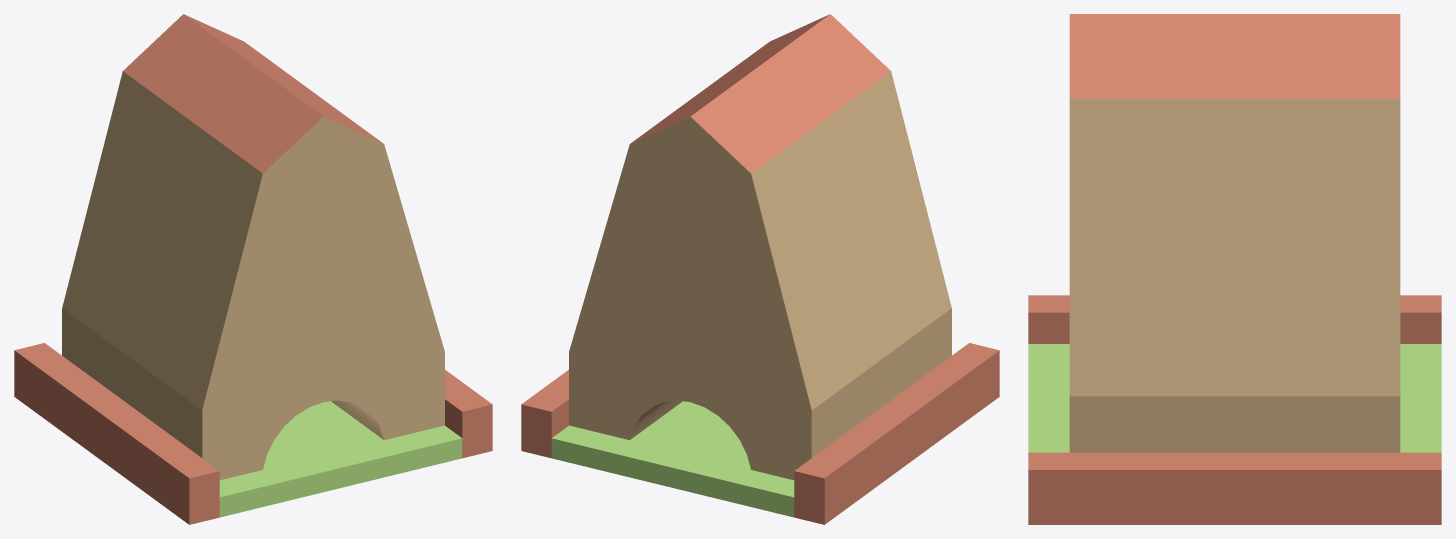
Rendered from Windmill_01.glb.
3 views of the same model, side by side, from view 1: azimuth 30°, elevation 25°; view 2: azimuth 150°, elevation 25°; view 3: azimuth 270°, elevation 25° (orthographic). The views are drawn at different scales.
Visible parts, largest first — view 1: Mesh1 Windmill Model; view 2: Mesh1 Windmill Model; view 3: Mesh1 Windmill Model.
Boxes of the visible parts, box(x1,y1,x2,y2) form: Mesh1 Windmill Model: box(14, 14, 492, 524); Mesh1 Windmill Model: box(521, 14, 999, 524); Mesh1 Windmill Model: box(1028, 14, 1441, 524).
Bounding box in the file's own units: 3 × 3.39 × 3.
